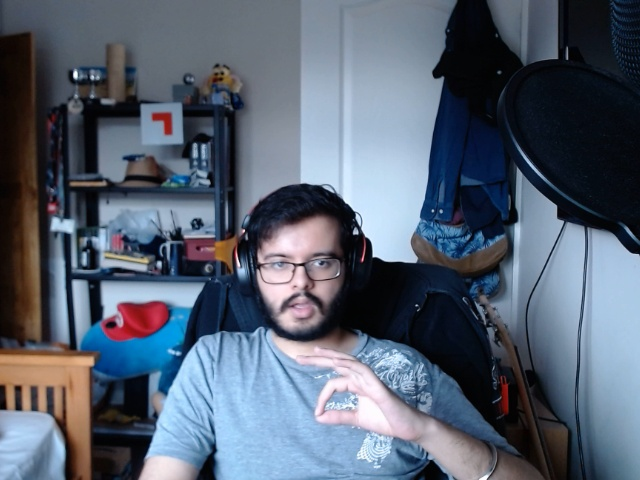Okay: (307, 340, 434, 452)
